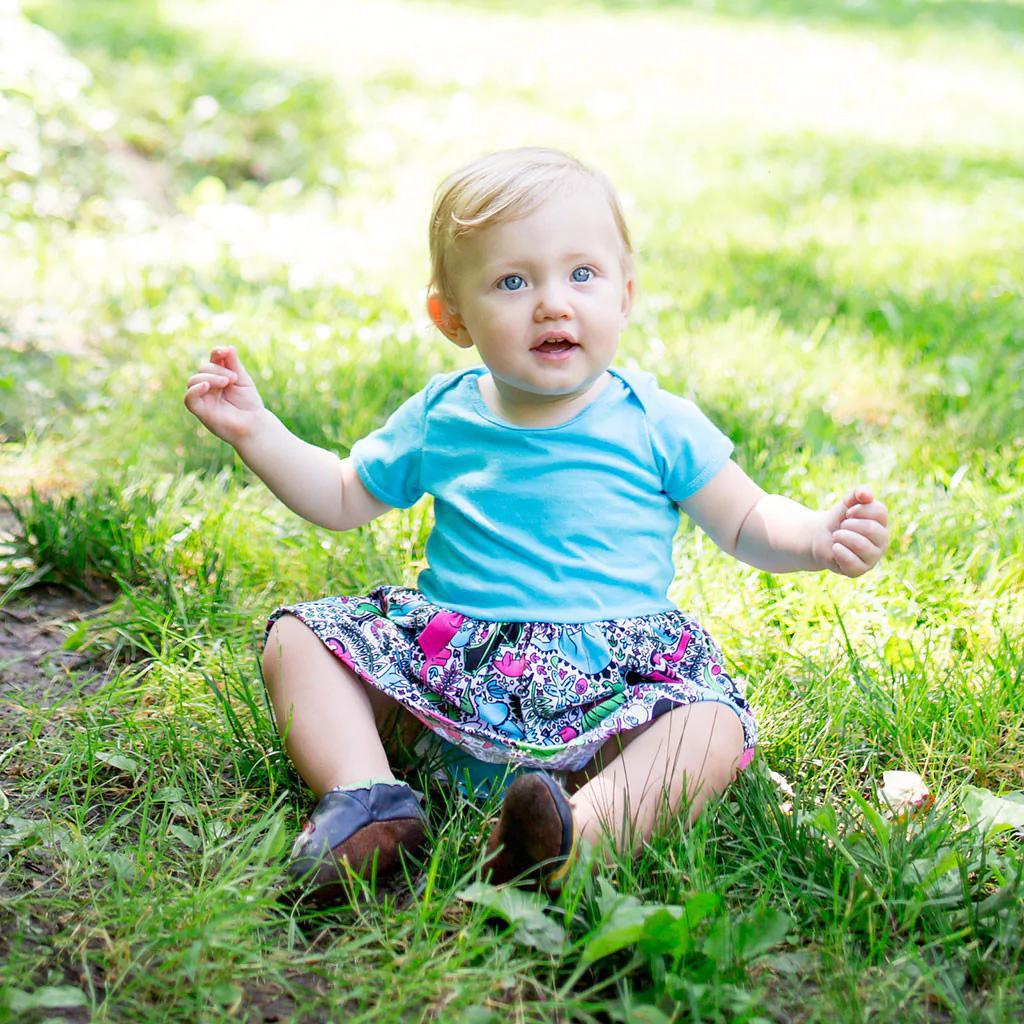child: (152, 138, 888, 931)
